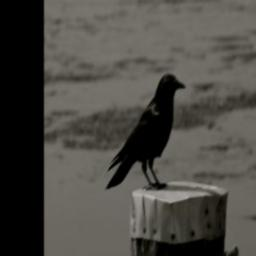Crow: (103, 69, 186, 195)
